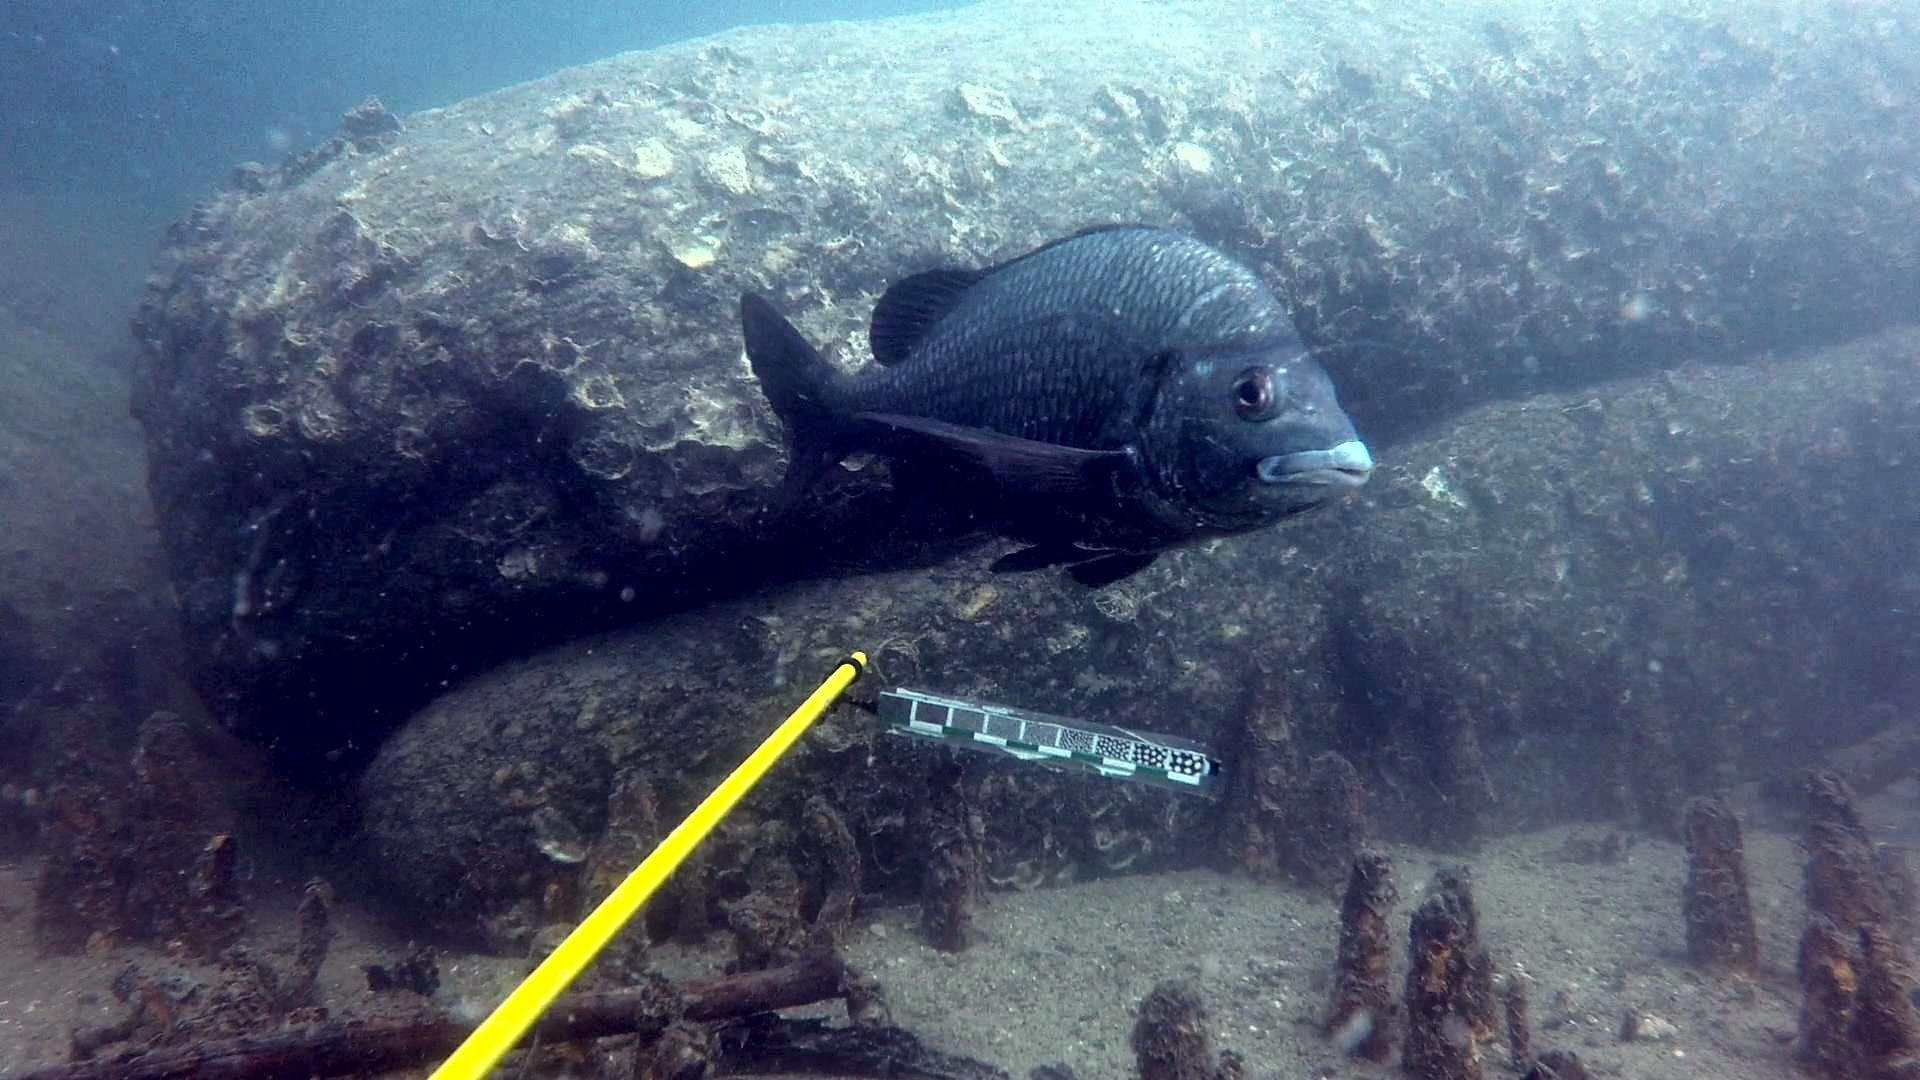acanthopagrus palmaris: (733, 218, 1378, 598)
